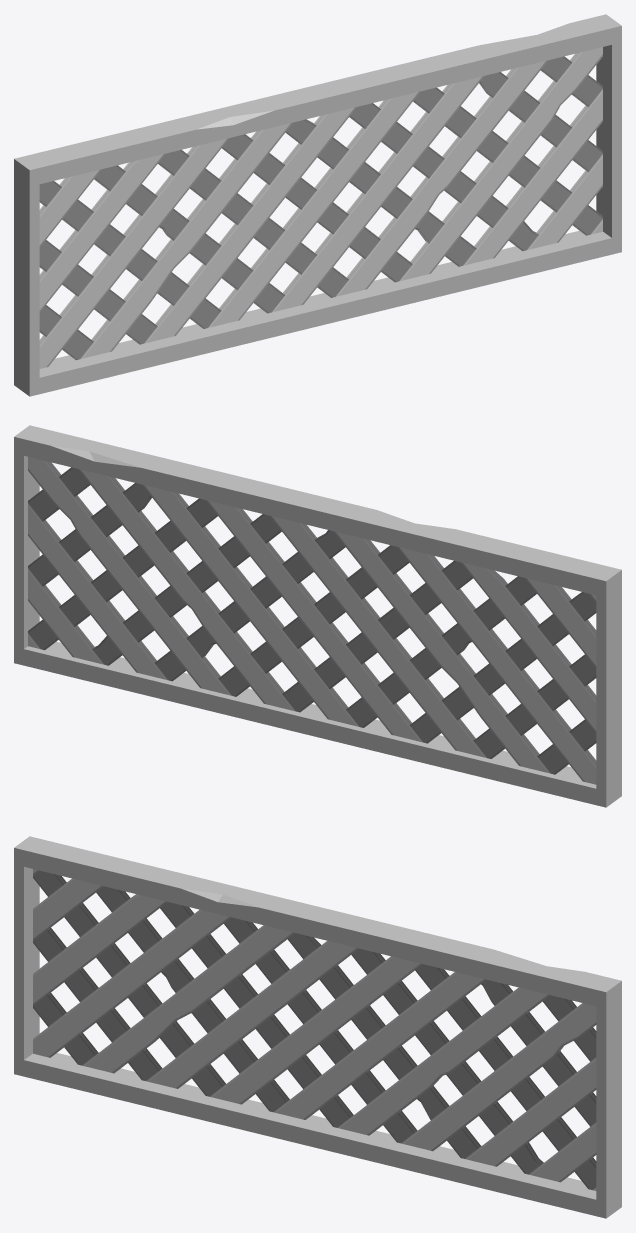
File: SM_Bld_Trellis_02.fbx
3 views of the same model, one above another, from view 1: azimuth 30°, elevation 25°; view 2: azimuth 150°, elevation 25°; view 3: azimuth 330°, elevation 25° (orthographic).
Visible parts, largest first — view 1: SM_Bld_Trellis_02; view 2: SM_Bld_Trellis_02; view 3: SM_Bld_Trellis_02.
Boxes of the visible parts, bbox=[...] form: SM_Bld_Trellis_02: bbox=[14, 14, 621, 396]; SM_Bld_Trellis_02: bbox=[14, 425, 621, 807]; SM_Bld_Trellis_02: bbox=[14, 836, 621, 1218].
Size of the model in its own units: 250 by 91.33 by 11.51.
